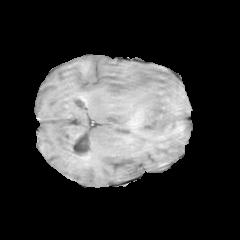glioma: (107, 66, 186, 131)
